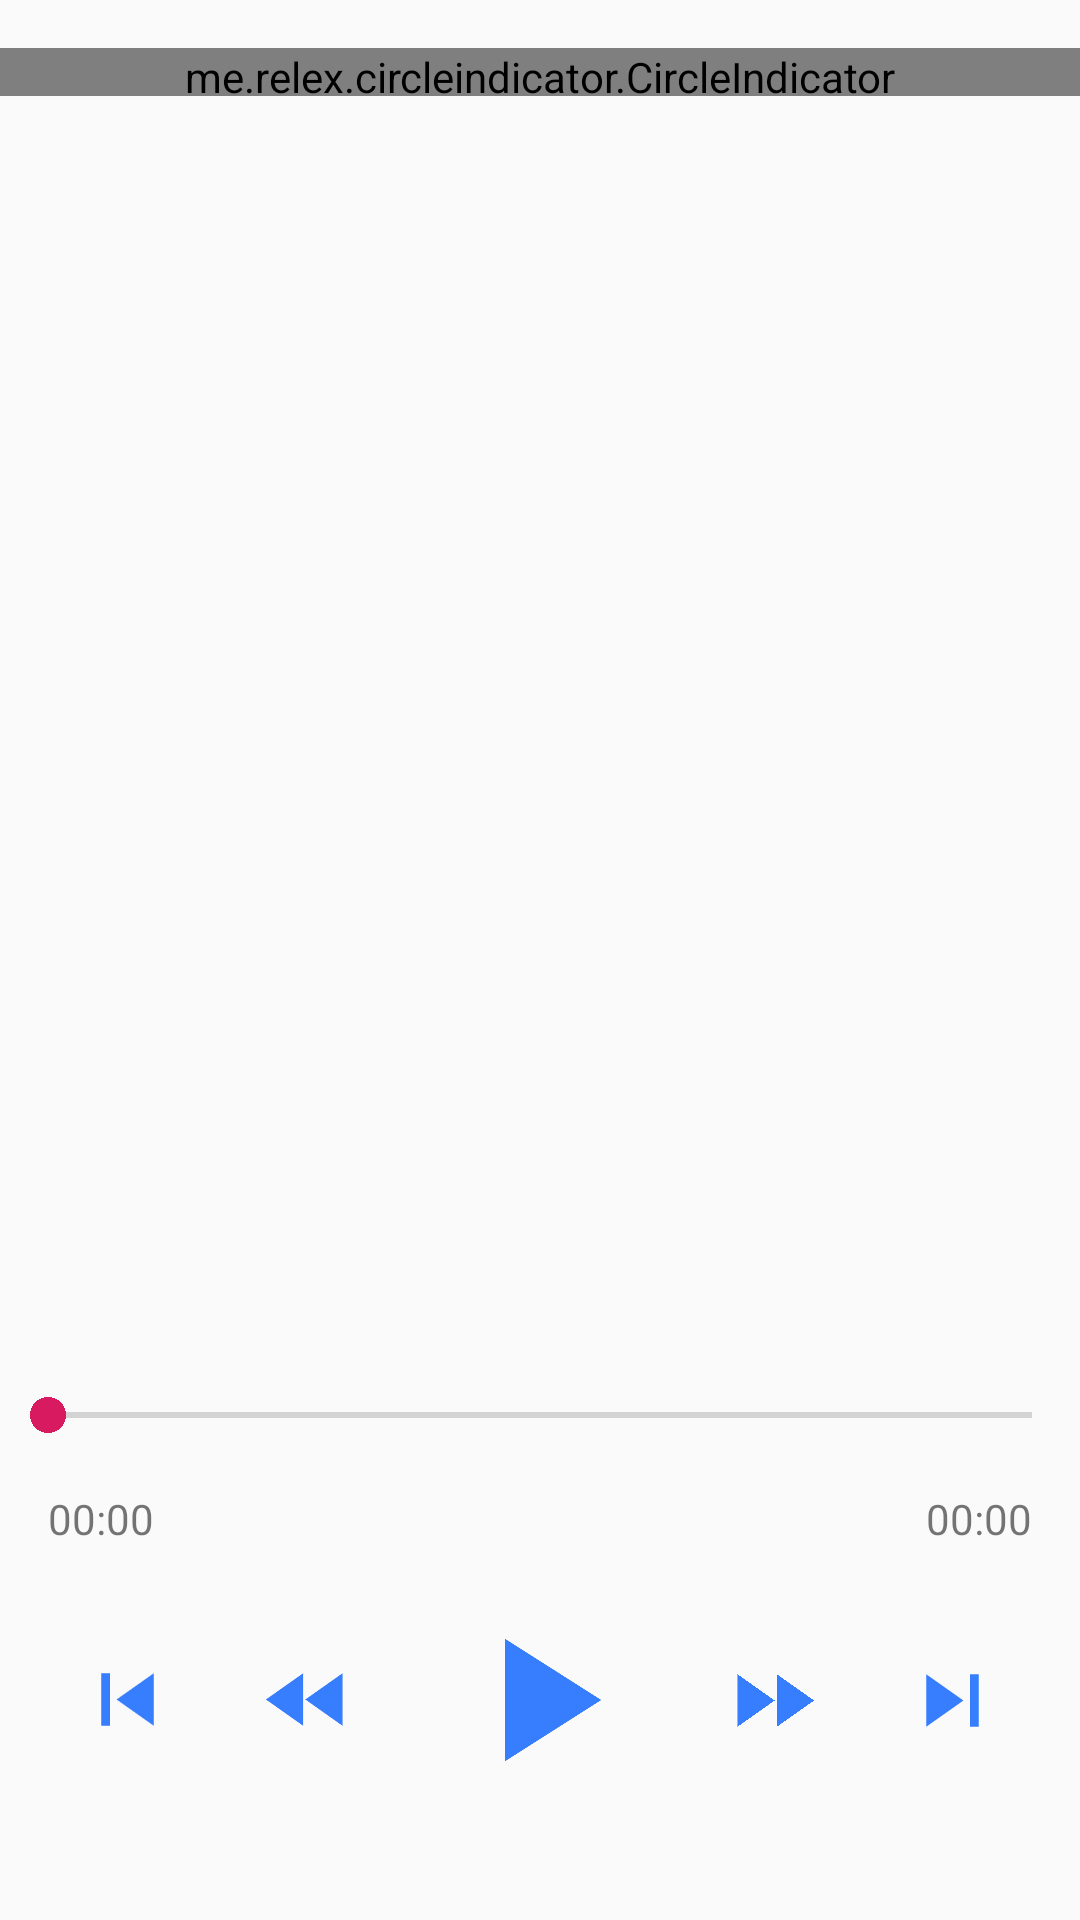

Named icons in this screenshot (1080w x 1920h) and their centers, (x=x, y=y):
fast forward: (x=775, y=1700)
fast rewind: (x=304, y=1699)
play arrow: (x=553, y=1700)
skip next: (x=952, y=1700)
skip previous: (x=127, y=1699)
